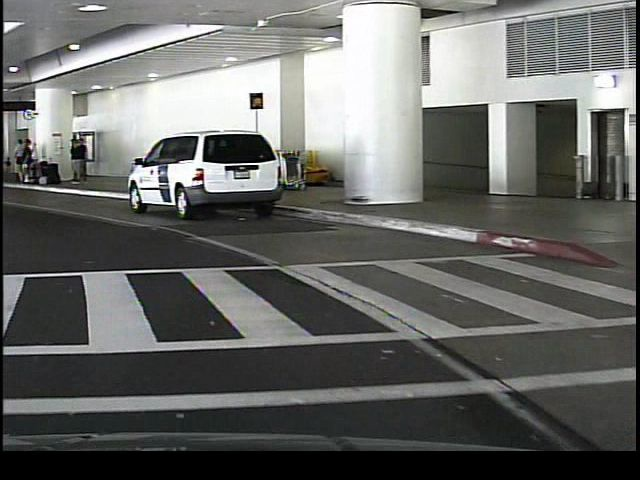person: (9, 132, 27, 184)
